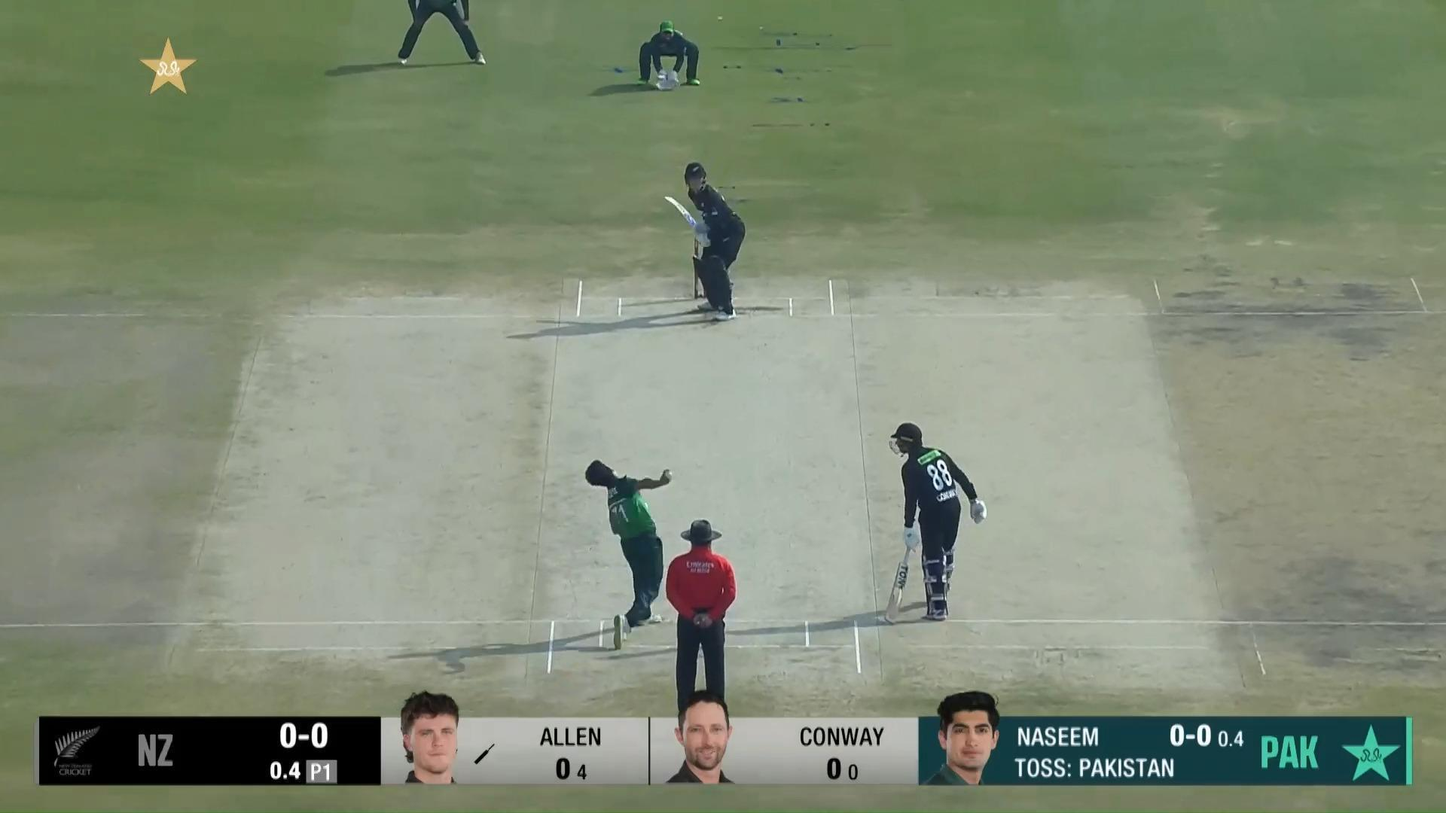BM 1: (664, 162, 746, 320)
BO: (585, 459, 674, 650)
